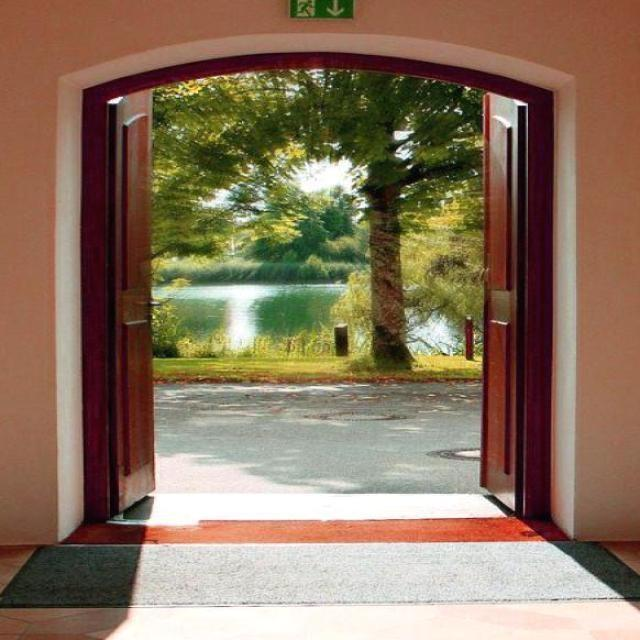door: (92, 62, 178, 518), (464, 69, 550, 517)
